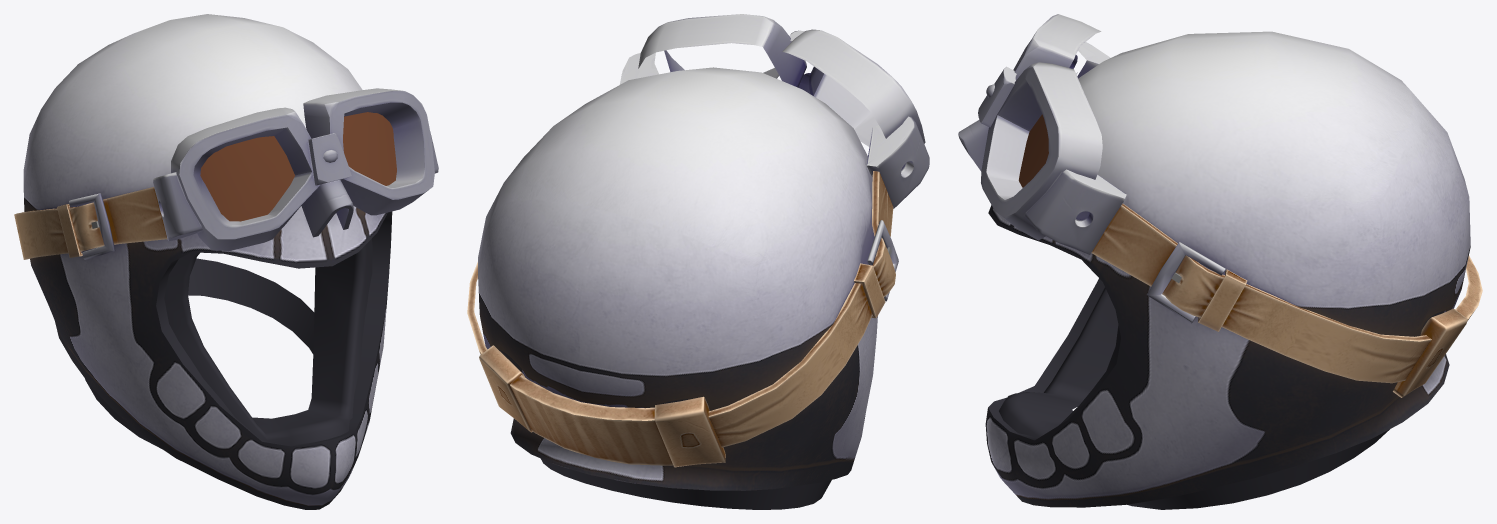
3 views of the same model, side by side, from view 1: azimuth 30°, elevation 25°; view 2: azimuth 150°, elevation 25°; view 3: azimuth 270°, elevation 25° (orthographic). The views are drawn at different scales.
Visible parts, largest first — view 1: Wolf3D_Headwear; view 2: Wolf3D_Headwear; view 3: Wolf3D_Headwear.
Boxes of the visible parts, x1,y1,x2,y2 form: Wolf3D_Headwear: (14, 14, 438, 509); Wolf3D_Headwear: (467, 14, 929, 509); Wolf3D_Headwear: (958, 14, 1482, 509).
Size of the model in its own units: 0.2586 by 0.3039 by 0.3239.
1 material, 1 textured.
